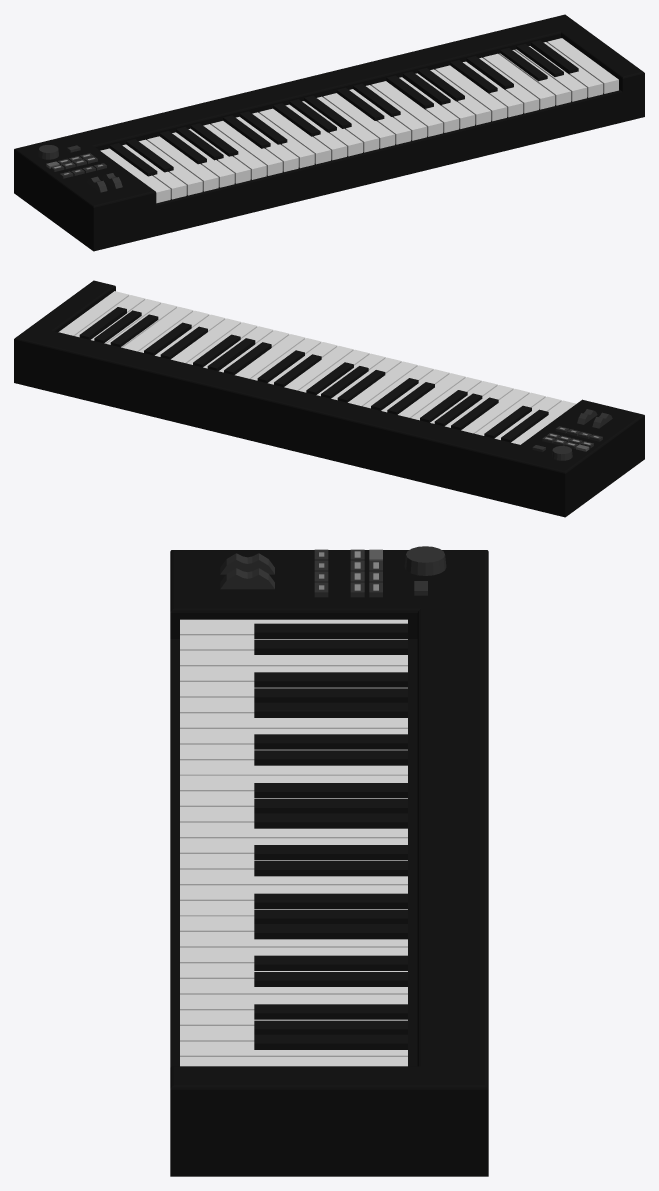
The model's file is Midi Keyboard01.fbx.
3 renders of one model, top to bottom at view 1: azimuth 30°, elevation 25°; view 2: azimuth 150°, elevation 25°; view 3: azimuth 270°, elevation 25°, orthographic. The views are drawn at different scales.
Visible parts, largest first — view 1: 49keysmidi; view 2: 49keysmidi; view 3: 49keysmidi.
Boxes of the visible parts, box(x1,y1,x2,y2) form: 49keysmidi: box(14, 14, 644, 251); 49keysmidi: box(14, 280, 644, 517); 49keysmidi: box(170, 546, 488, 1176).
Bounding box in the file's own units: 80 × 7.25 × 20.
